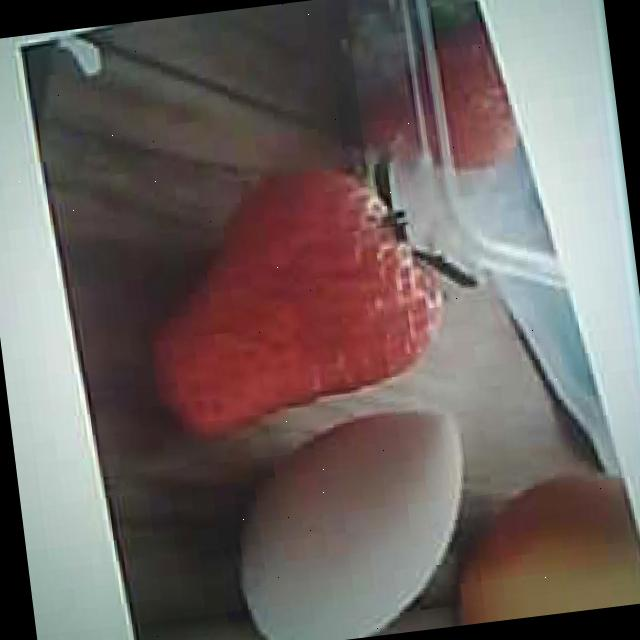strawberry: (140, 158, 452, 440)
